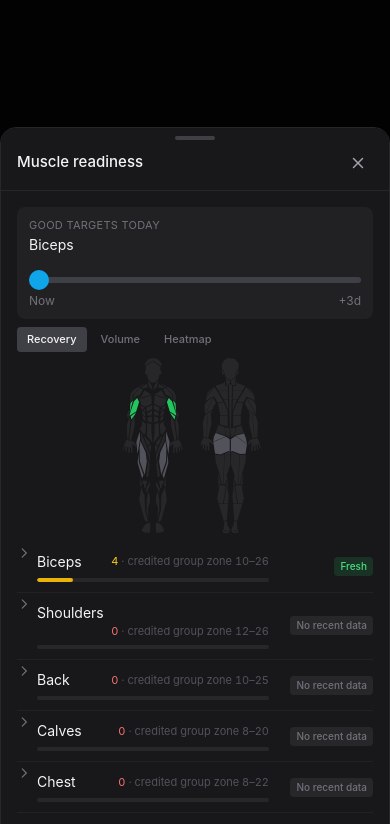
MuscleReadinessSheet › the time slider previews future volume/recovery and resets back to now
Expected: the element with test id "readiness-row-biceps" is shown, [17,542,373,592]
Expected: the text "Good targets today" is shown, [29,217,160,233]
Note: Drag to +24h: one local midnight crossed → those sets have aged out.
Set the slider with test id "readiness-time-slider" to "24" at (142, 280), box [29,277,361,283]
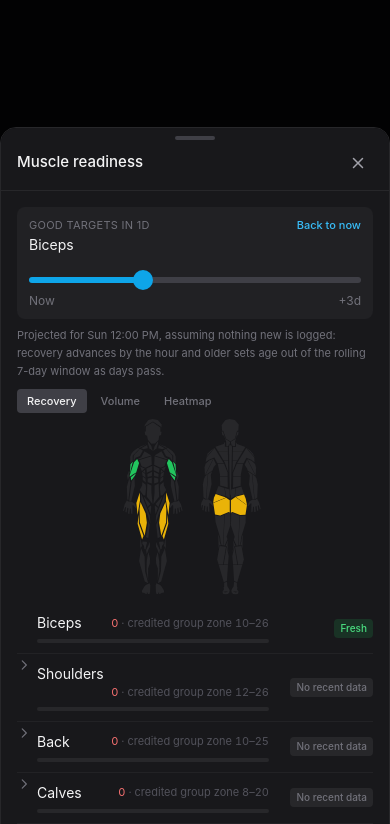
Expected: the text "Good targets in 1d" is shown, [29,217,150,233]
Expected: the text with test id "readiness-preview-note" is shown, [17,327,373,381]
Expected: the text with test id "readiness-sets-biceps" reads "0", [111,616,118,630]
Set the slider with test id "readiness-time-slider" to "3" at (50, 280), box [29,277,361,283]
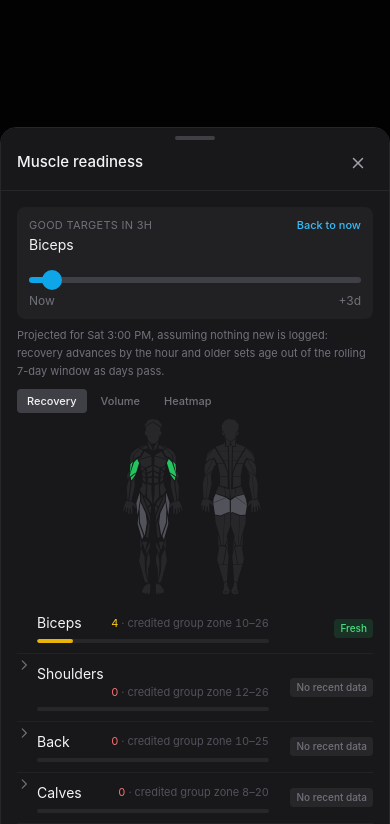
Expected: the text "Good targets in 3h" is shown, [29,217,152,233]
Expected: the text with test id "readiness-sets-biceps" reads "4", [111,616,118,630]
Note: "Back to now" resets to today's real numbers.
Click the button with test id "readiness-time-reset" at (329, 225), box [297,217,361,233]
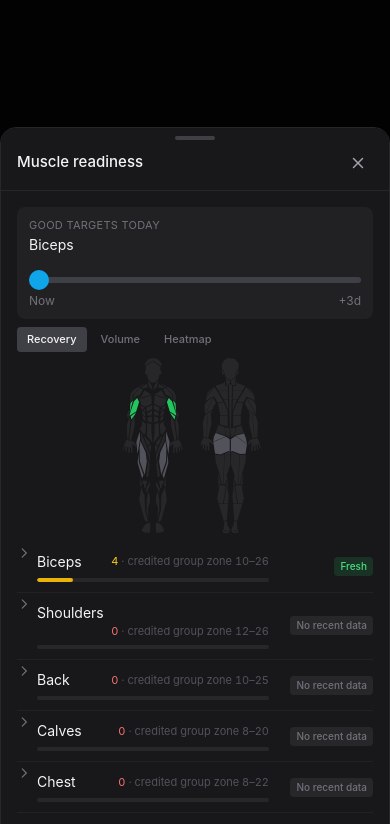
Expected: the text with test id "readiness-sets-biceps" reads "4", [111,554,118,568]
Expected: the text "Good targets today" is shown, [29,217,160,233]
Expected: the text with test id "readiness-preview-note" is gone
